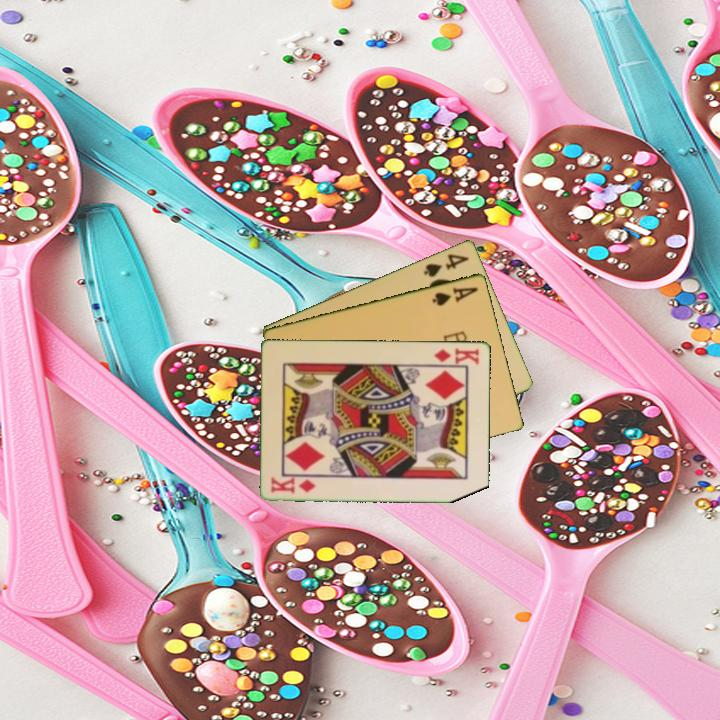4s: (420, 250, 472, 280)
As: (429, 283, 481, 308)
Kd: (431, 345, 482, 367), (268, 474, 318, 495)
